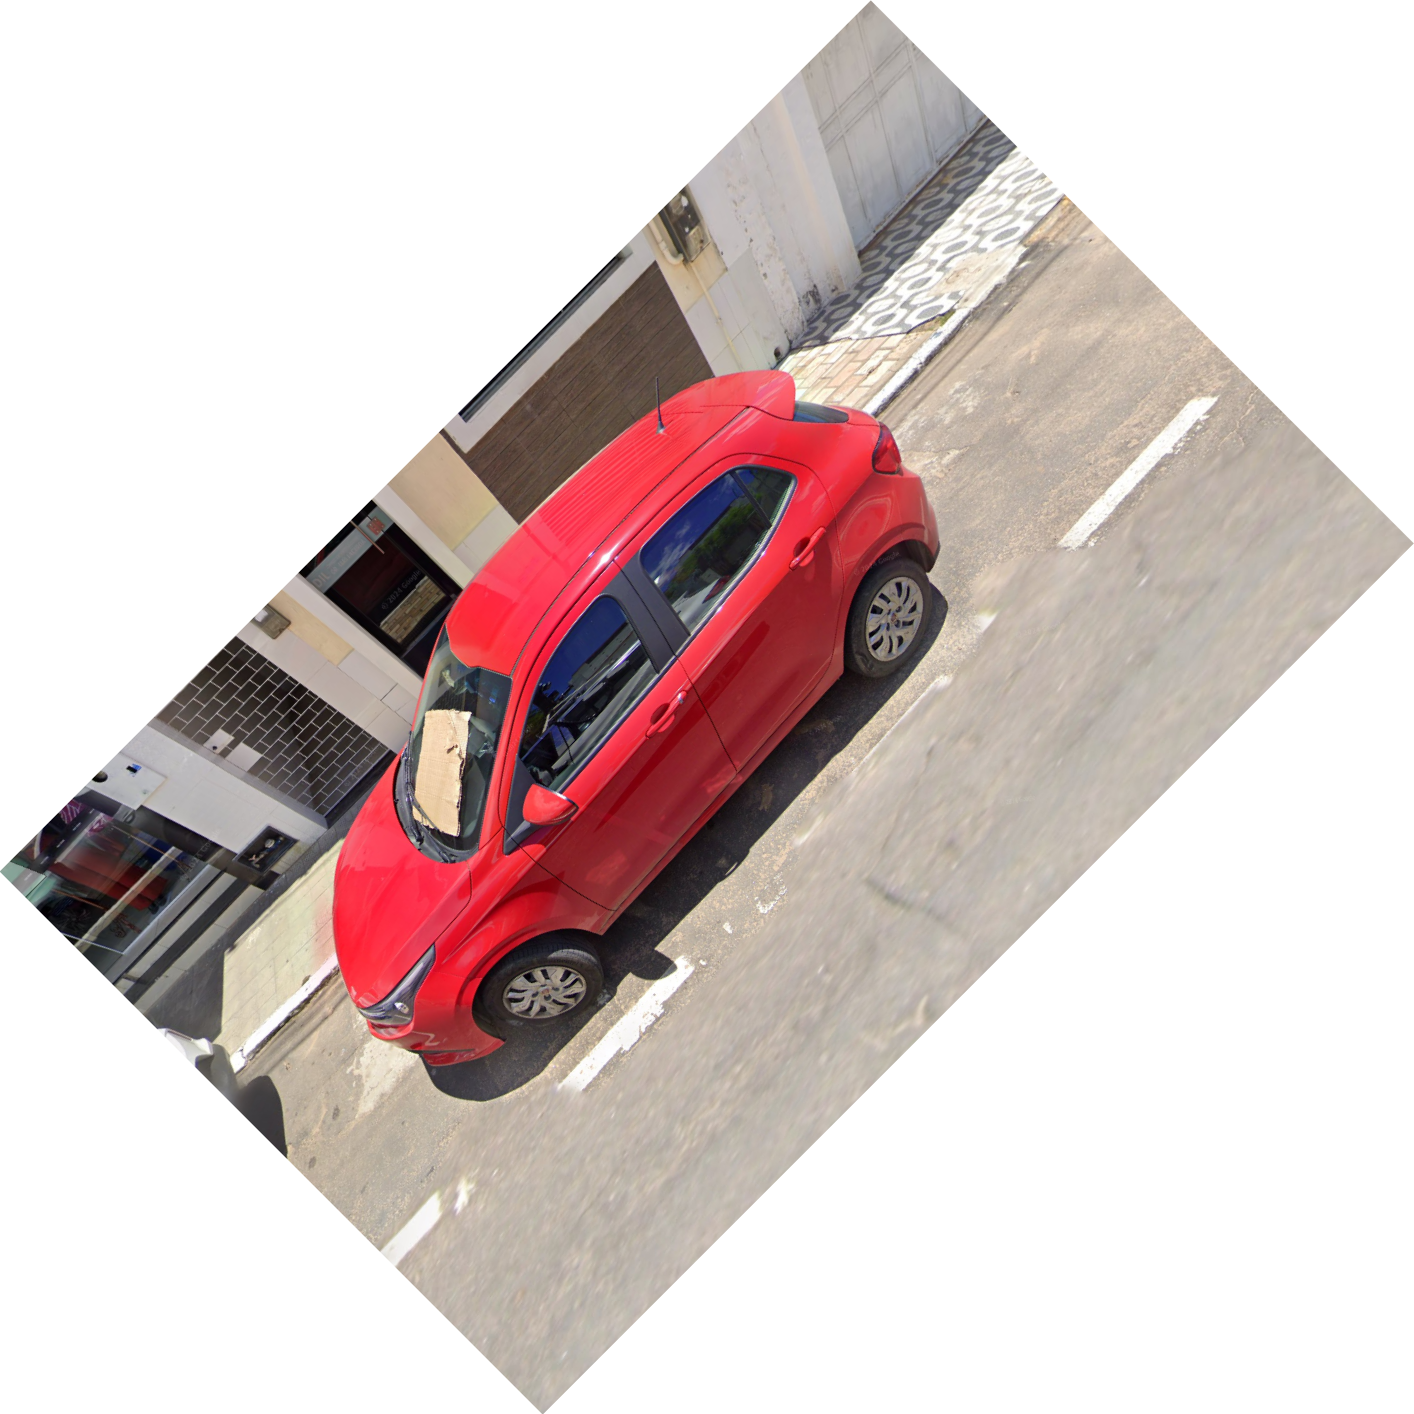car: (330, 355, 956, 1086)
